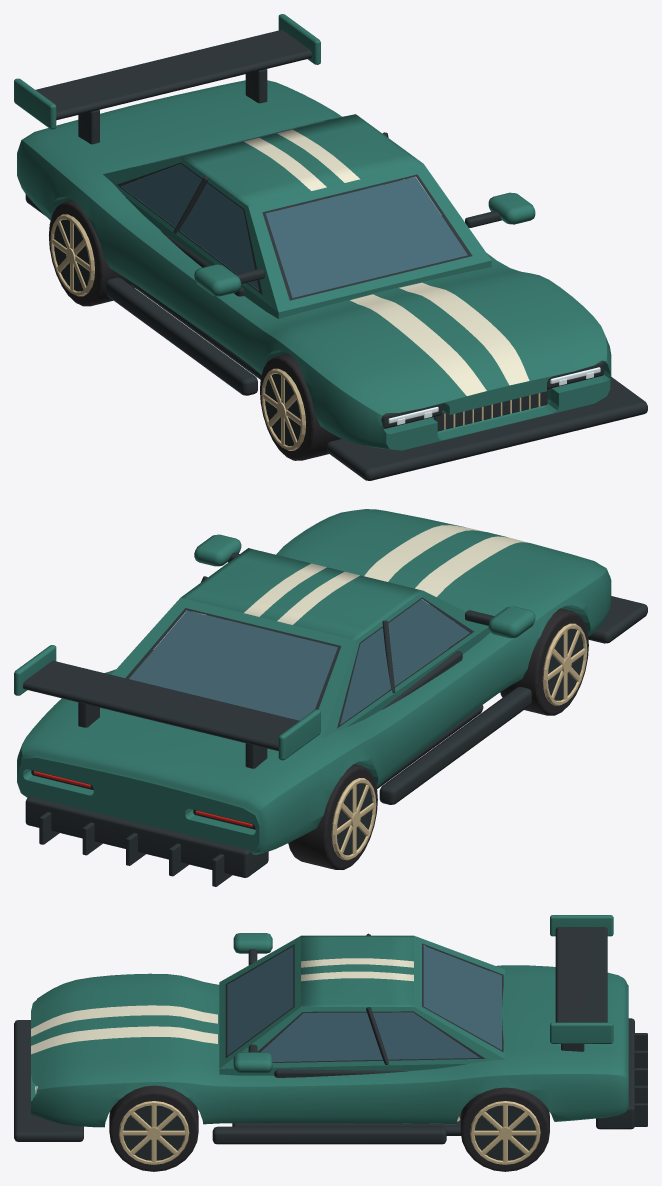
Rendered from VEH_V8_Muscle_GT.glb.
3 renders of one model, top to bottom at view 1: azimuth 30°, elevation 25°; view 2: azimuth 150°, elevation 25°; view 3: azimuth 270°, elevation 25°, orthographic. The views are drawn at different scales.
Visible parts, largest first — view 1: GT_sculpted_body, Glass_windscreen, Continuous_roof_panel, Rear_wing, Front_splitter, Glass_left, Integrated_windscreen_surround, Side_skirt, Integrated_left_surround, Tyre, Tyre.001, Gasket_windscreen (+15 smaller); view 2: GT_sculpted_body, Glass_rear, Continuous_roof_panel, Rear_wing, Glass_left, Rear_diffuser, Side_skirt, Integrated_rear_surround, Tyre.001, Integrated_left_surround, Tyre, Front_splitter (+13 smaller); view 3: GT_sculpted_body, Continuous_roof_panel, Glass_right, Glass_rear, Rear_wing, Glass_windscreen, Side_skirt.001, Front_splitter, Integrated_right_surround, Tyre.002, Tyre.003, Integrated_windscreen_surround (+16 smaller).
Boxes of the visible parts, bbox=[...] form: GT_sculpted_body: bbox=[17, 80, 611, 450]; Glass_windscreen: bbox=[266, 177, 467, 297]; Continuous_roof_panel: bbox=[181, 114, 423, 206]; Rear_wing: bbox=[36, 30, 311, 120]; Front_splitter: bbox=[327, 377, 647, 480]; Glass_left: bbox=[121, 164, 259, 290]; Integrated_windscreen_surround: bbox=[248, 164, 491, 312]; Side_skirt: bbox=[105, 277, 257, 395]; Integrated_left_surround: bbox=[103, 157, 278, 311]; Tyre: bbox=[260, 353, 340, 460]; Tyre.001: bbox=[49, 200, 134, 306]; Gasket_windscreen: bbox=[262, 174, 472, 300]; GT_sculpted_body: bbox=[17, 509, 611, 854]; Glass_rear: bbox=[129, 610, 337, 720]; Continuous_roof_panel: bbox=[181, 548, 423, 640]; Rear_wing: bbox=[23, 661, 299, 750]; Glass_left: bbox=[340, 599, 469, 724]; Rear_diffuser: bbox=[25, 796, 268, 877]; Side_skirt: bbox=[379, 687, 531, 804]; Integrated_rear_surround: bbox=[111, 597, 355, 737]; Tyre.001: bbox=[288, 764, 377, 869]; Integrated_left_surround: bbox=[324, 591, 488, 737]; Tyre: bbox=[500, 608, 588, 715]; Front_splitter: bbox=[588, 596, 647, 643]; GT_sculpted_body: bbox=[31, 965, 628, 1127]; Continuous_roof_panel: bbox=[301, 935, 413, 1006]; Glass_right: bbox=[261, 1012, 479, 1061]; Glass_rear: bbox=[423, 945, 501, 1049]; Rear_wing: bbox=[555, 927, 607, 1022]; Glass_windscreen: bbox=[227, 946, 293, 1055]; Side_skirt.001: bbox=[212, 1126, 446, 1144]; Front_splitter: bbox=[14, 1020, 83, 1141]; Integrated_right_surround: bbox=[219, 1007, 504, 1068]; Tyre.002: bbox=[109, 1085, 198, 1171]; Tyre.003: bbox=[460, 1087, 549, 1171]; Integrated_windscreen_surround: bbox=[219, 936, 300, 1068].
Bounding box in the file's own units: 2.33 × 1.23 × 4.75.
